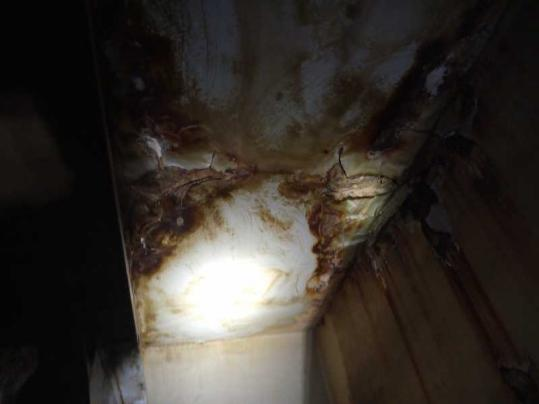corrosion: (287, 28, 446, 307), (98, 21, 250, 288), (248, 199, 296, 243)
